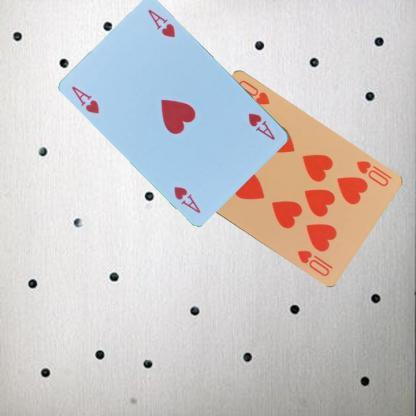10h: (352, 158, 390, 188)
Ah: (68, 83, 102, 115), (245, 110, 276, 141)
